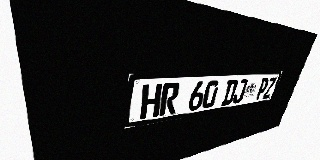0: (201, 80, 220, 109)
6: (187, 81, 207, 111)
D: (221, 79, 239, 106)
H: (140, 83, 163, 119)
J: (232, 79, 249, 104)
P: (255, 78, 270, 100)
R: (159, 82, 181, 116)
Z: (262, 77, 277, 99)
